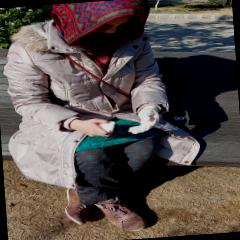gloved: (127, 106, 160, 135)
not-gloved: (70, 114, 114, 141)
